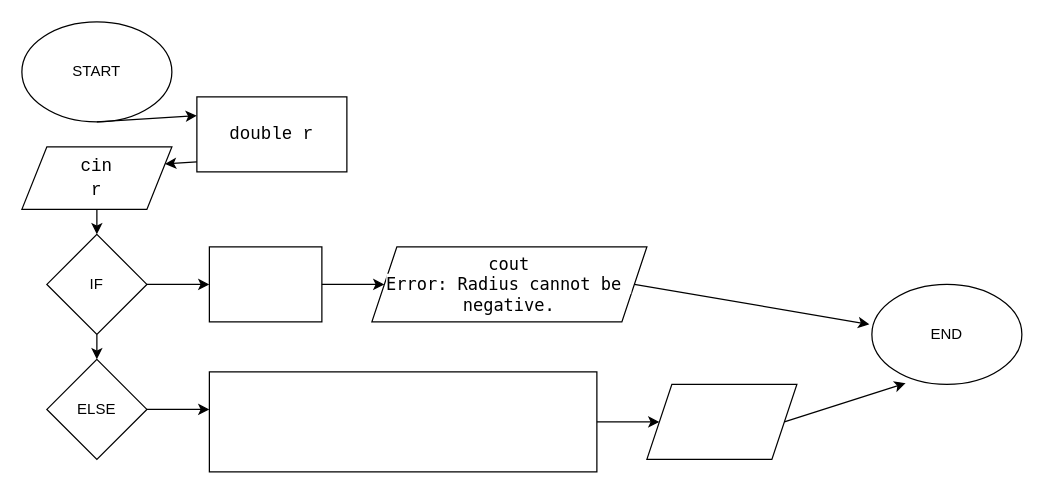
Image size: 1044x494. Some labels were removed from this diagram. The box of each missing label's shape, as (x1, y1, x2, y2) in pixels:
cout Radius: (646, 383, 797, 459)
double number = (r * r) double pi = 3.14 double Radius = (4 * pi * number): (208, 371, 597, 472)
r < 0: (208, 246, 322, 322)
